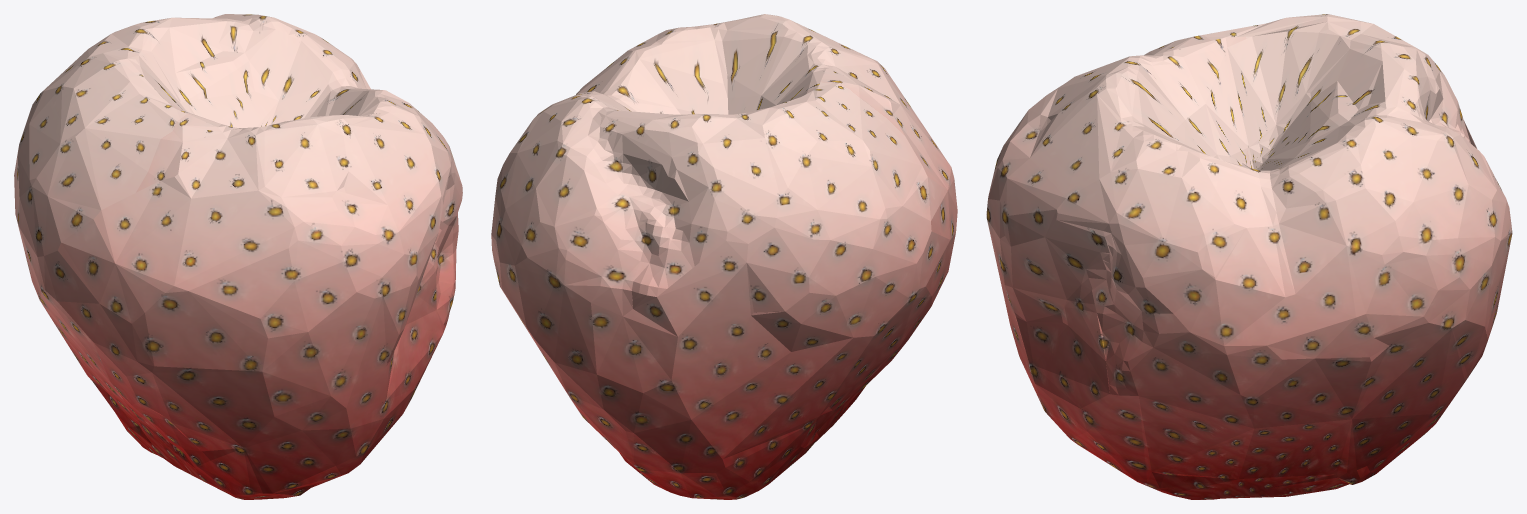
The picture shows the model from 3 angles, left to right: view 1: azimuth 30°, elevation 25°; view 2: azimuth 150°, elevation 25°; view 3: azimuth 270°, elevation 25°; orthographic projection. The views are drawn at different scales.
Parts seen in each view (by area): view 1: _003_Meshed; view 2: _003_Meshed; view 3: _003_Meshed.
Part boxes in pixels (box(x1,y1,x2,y2)): _003_Meshed: box(14, 14, 462, 499); _003_Meshed: box(491, 14, 957, 499); _003_Meshed: box(986, 14, 1512, 499).
Bounding box in the file's own units: 0.0971 × 0.1082 × 0.0983.
1 material, 1 textured.
